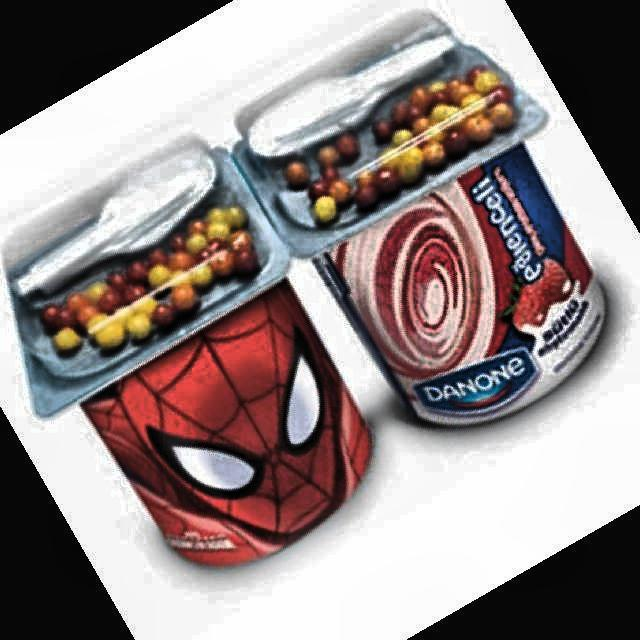plastic: (10, 14, 601, 564)
